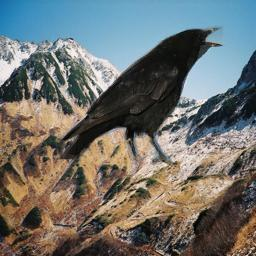Crow: (55, 24, 227, 171)
